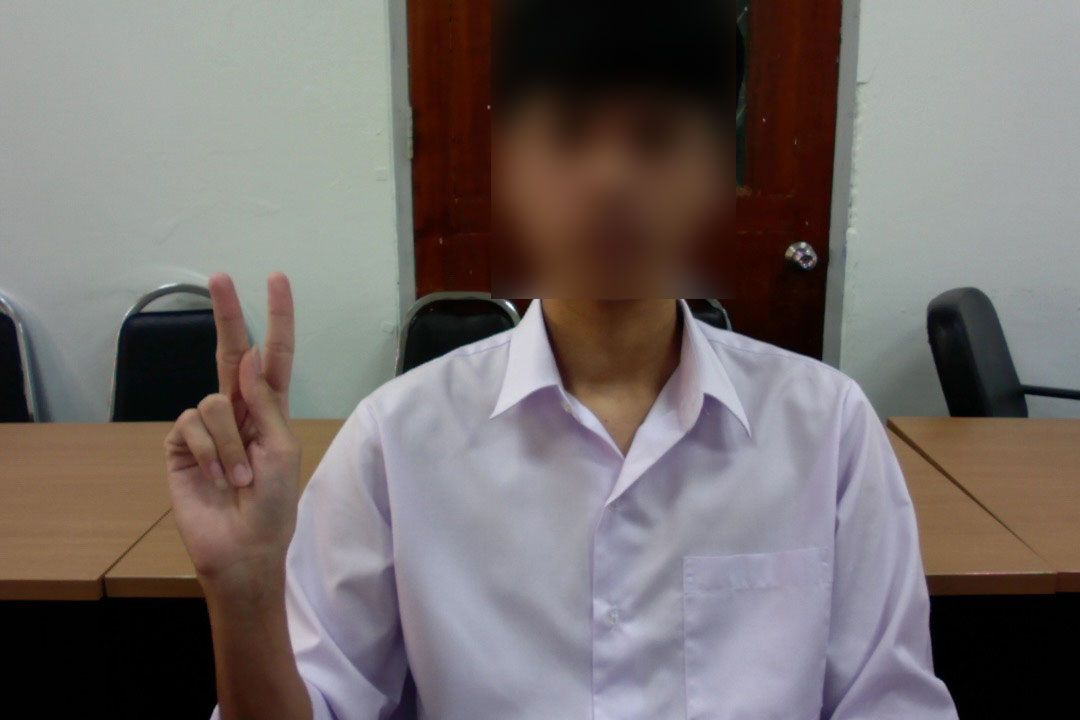ko: (159, 261, 319, 588)
